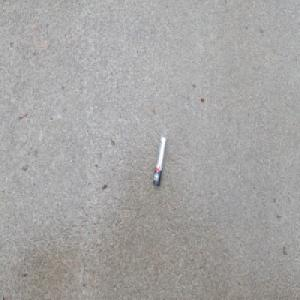Battery: (152, 133, 166, 187)
